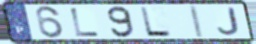6: (35, 5, 65, 40)
9: (107, 6, 136, 39)
I: (188, 5, 205, 39)
J: (216, 7, 242, 37)
L: (138, 6, 174, 38), (69, 7, 102, 38)
